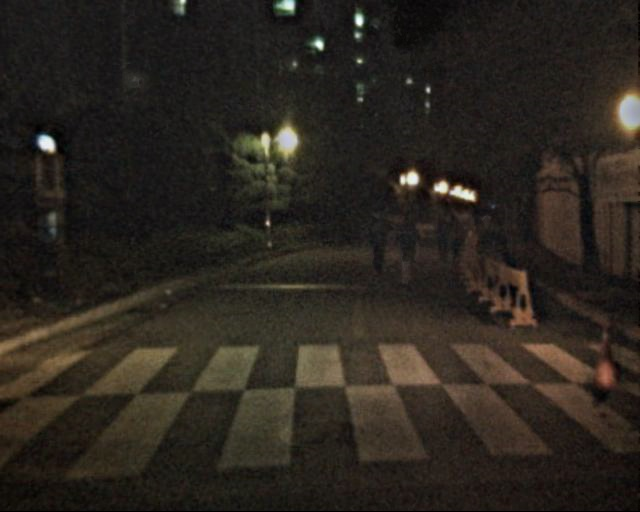person: (358, 208, 391, 288), (389, 212, 420, 287), (431, 215, 452, 266), (443, 218, 463, 267)
